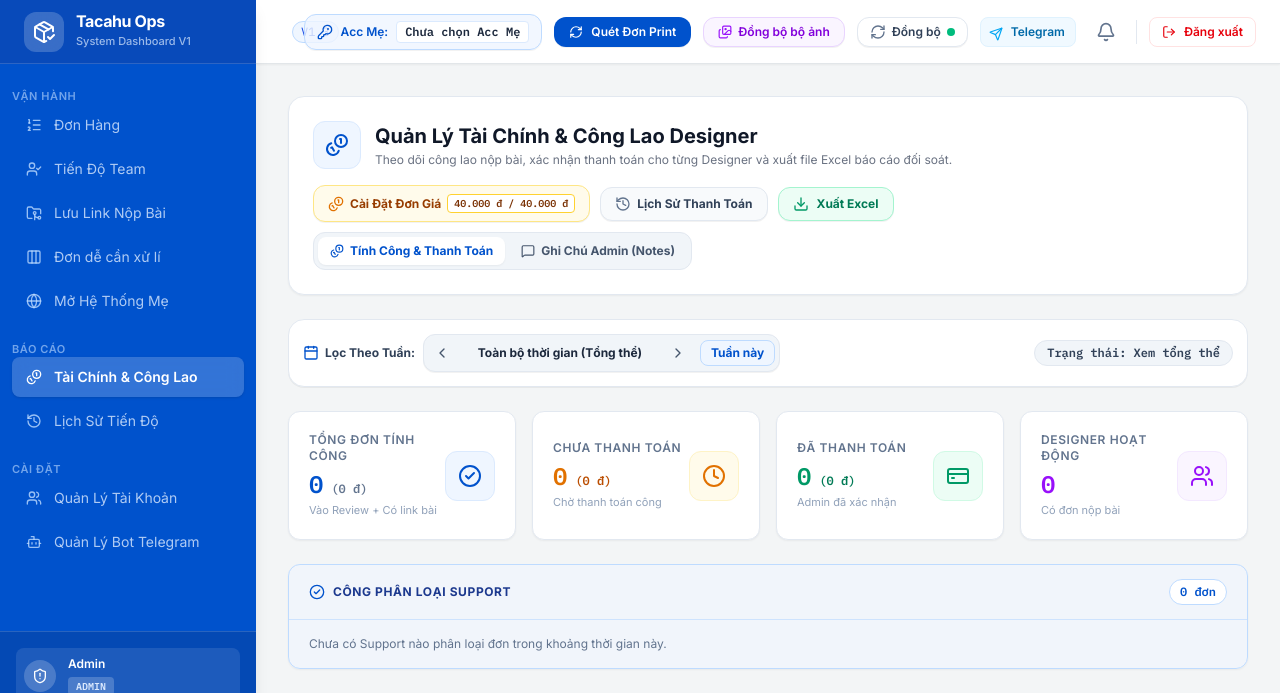
it: FinancePage › Admin can open the shared payment history modal from the finance page
The image size is (1280, 693).
Expected: the text "Lịch Sử Thanh Toán" is shown, [637, 196, 753, 212]
Click the button "Lịch Sử Thanh Toán": [684, 204] box [600, 187, 768, 221]
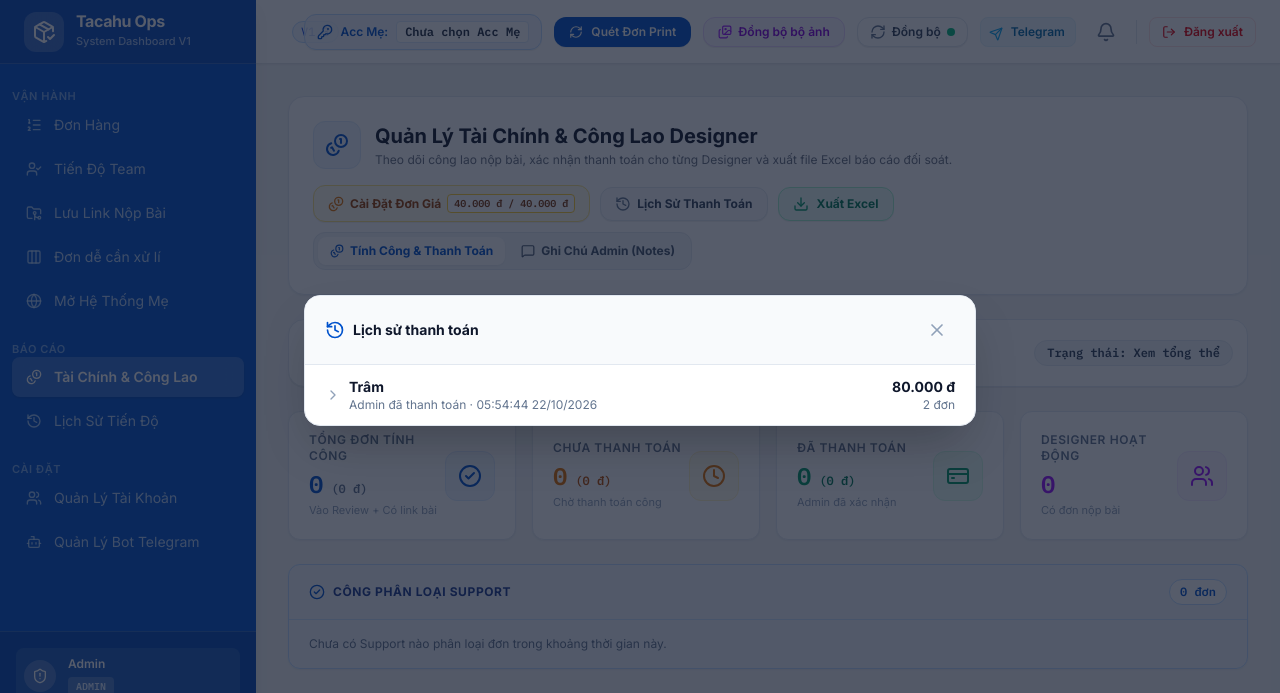
Expected: the text "Trâm" is shown, [349, 378, 384, 394]
Expected: the text "80.000 đ" is shown, [892, 376, 955, 396]
